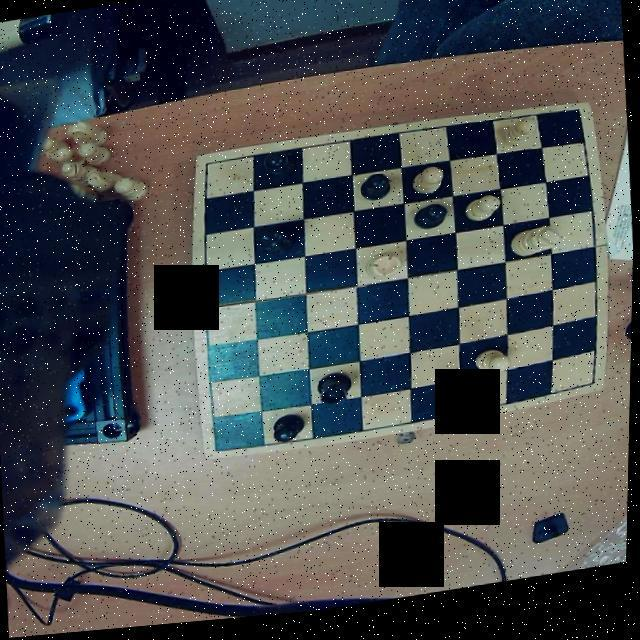chess-table-corners: (208, 438, 232, 463), (195, 158, 218, 182), (562, 112, 590, 130), (583, 380, 605, 400)
